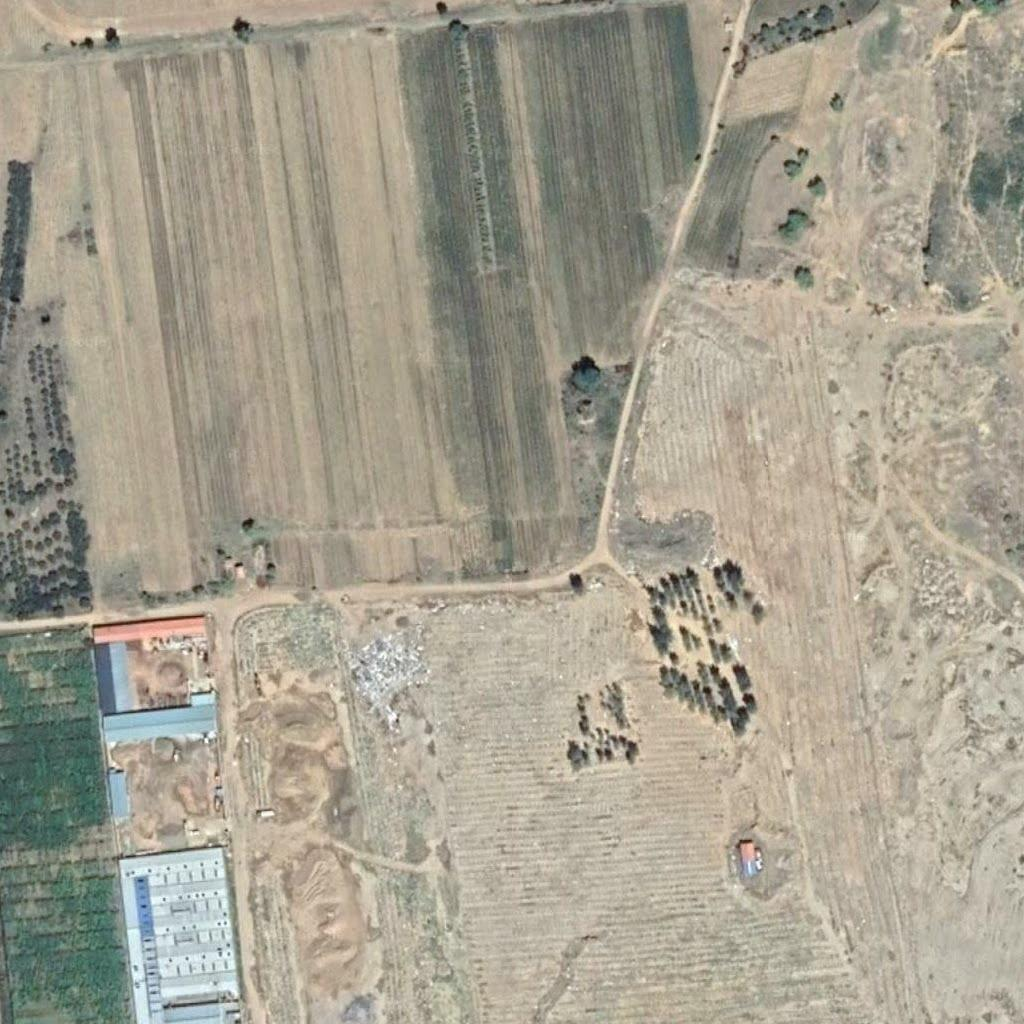construction waste: (350, 636, 421, 704)
